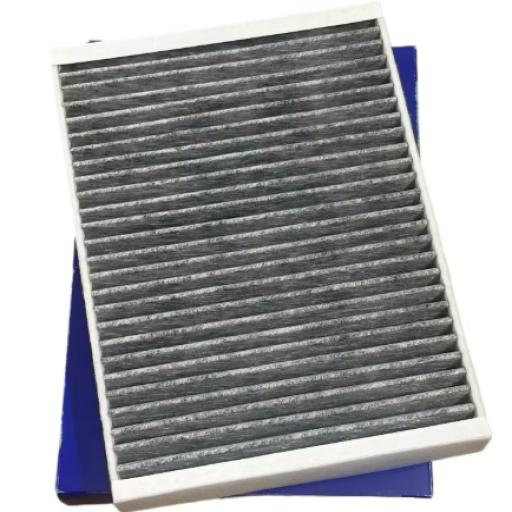cabin_filter: (33, 0, 496, 512)
